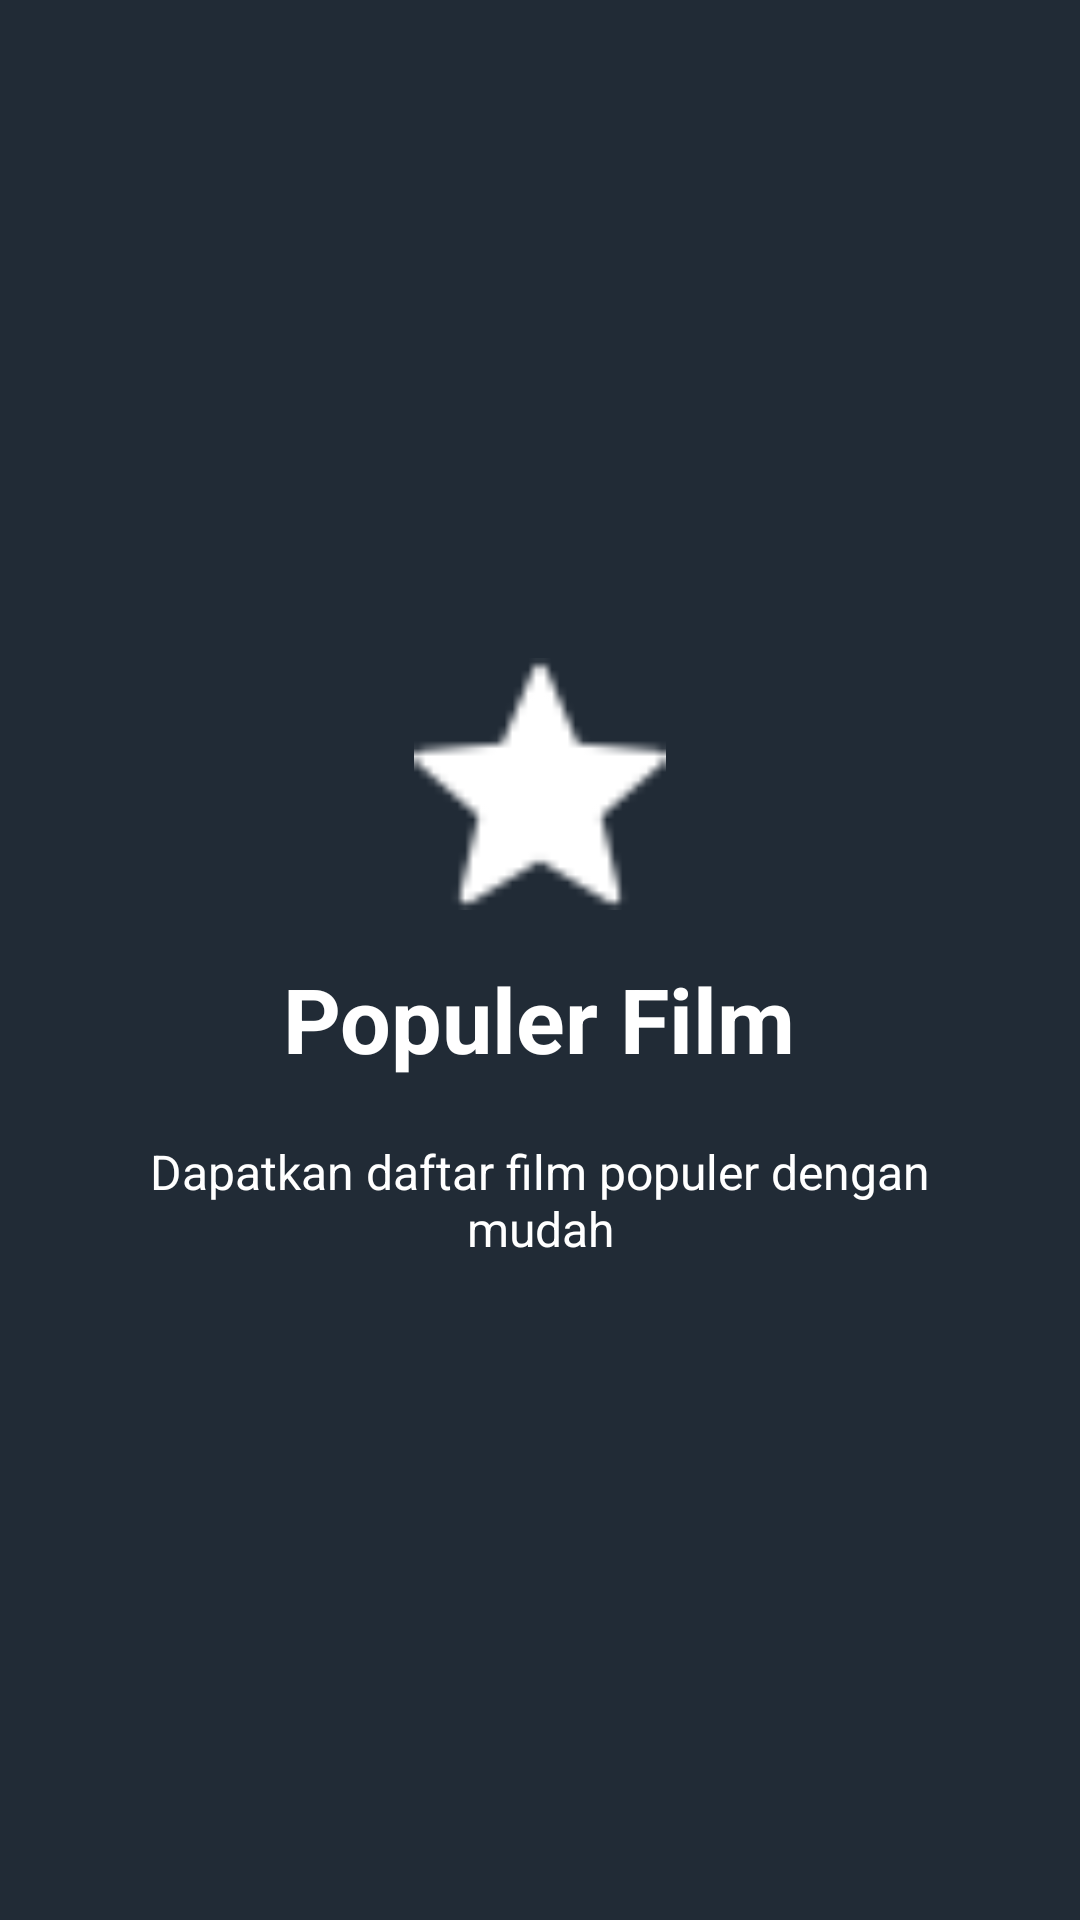

Locate icon controls on the screen. Image size 1080×1920, boxes as (x1, y1, x2, y2).
popular: (414, 663, 666, 906)
